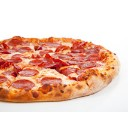pepperonipizza: (1, 37, 118, 102)
